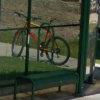Bicycle: (6, 8, 73, 66)
